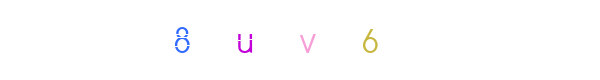6: (330, 0, 410, 80)
8: (142, 0, 222, 80)
U: (204, 0, 284, 80)
V: (260, 0, 340, 80)
